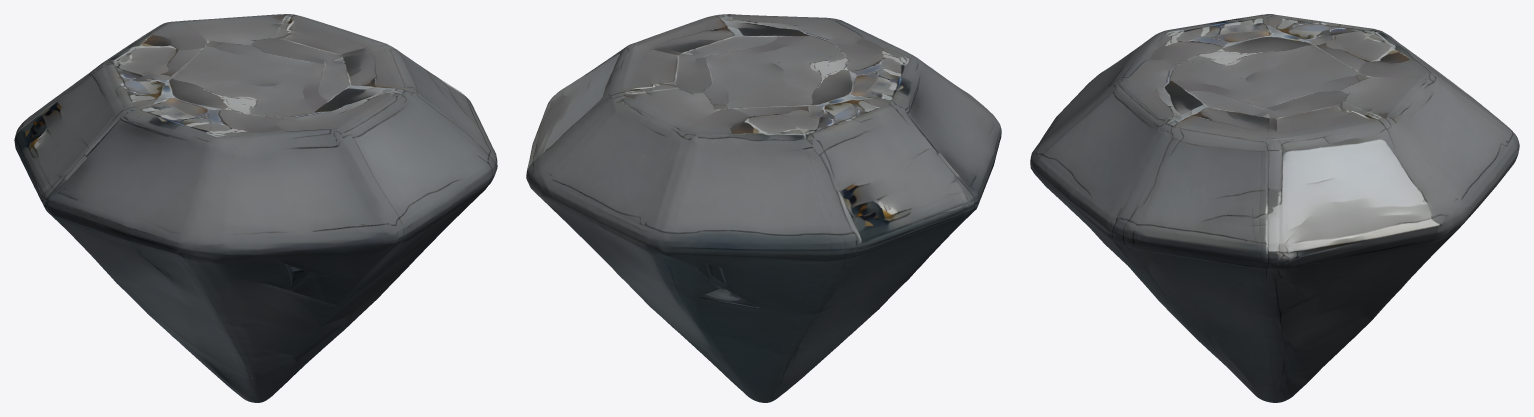
File: gem-round.glb
The picture shows the model from 3 angles, left to right: view 1: azimuth 30°, elevation 25°; view 2: azimuth 150°, elevation 25°; view 3: azimuth 270°, elevation 25°; orthographic projection.
Parts seen in each view (by area): view 1: model; view 2: model; view 3: model.
Boxes of the visible parts, left/top/right/bottom form: model: left=14, top=14, right=497, bottom=402; model: left=526, top=14, right=1001, bottom=402; model: left=1030, top=14, right=1519, bottom=402.
Bounding box in the file's own units: 1.89 × 1.4 × 1.9.
1 material, 1 textured.
